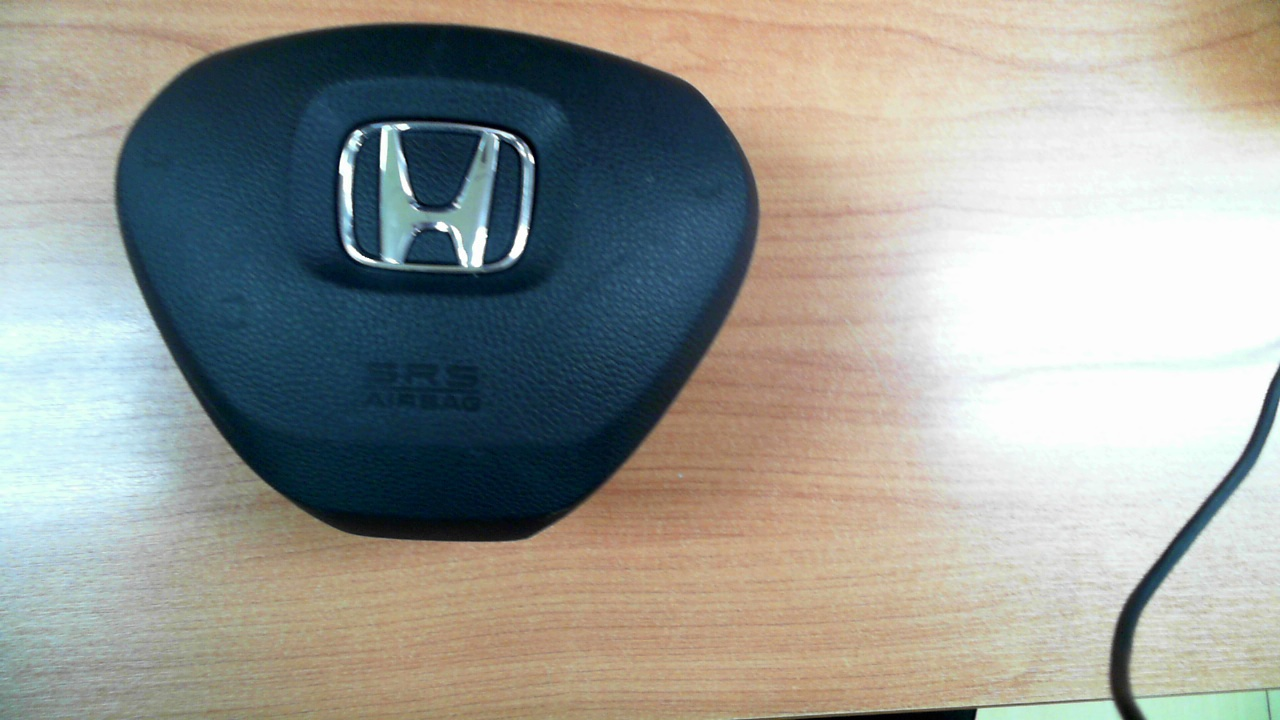Airbag: (114, 22, 761, 544)
Honda: (338, 120, 536, 273)
